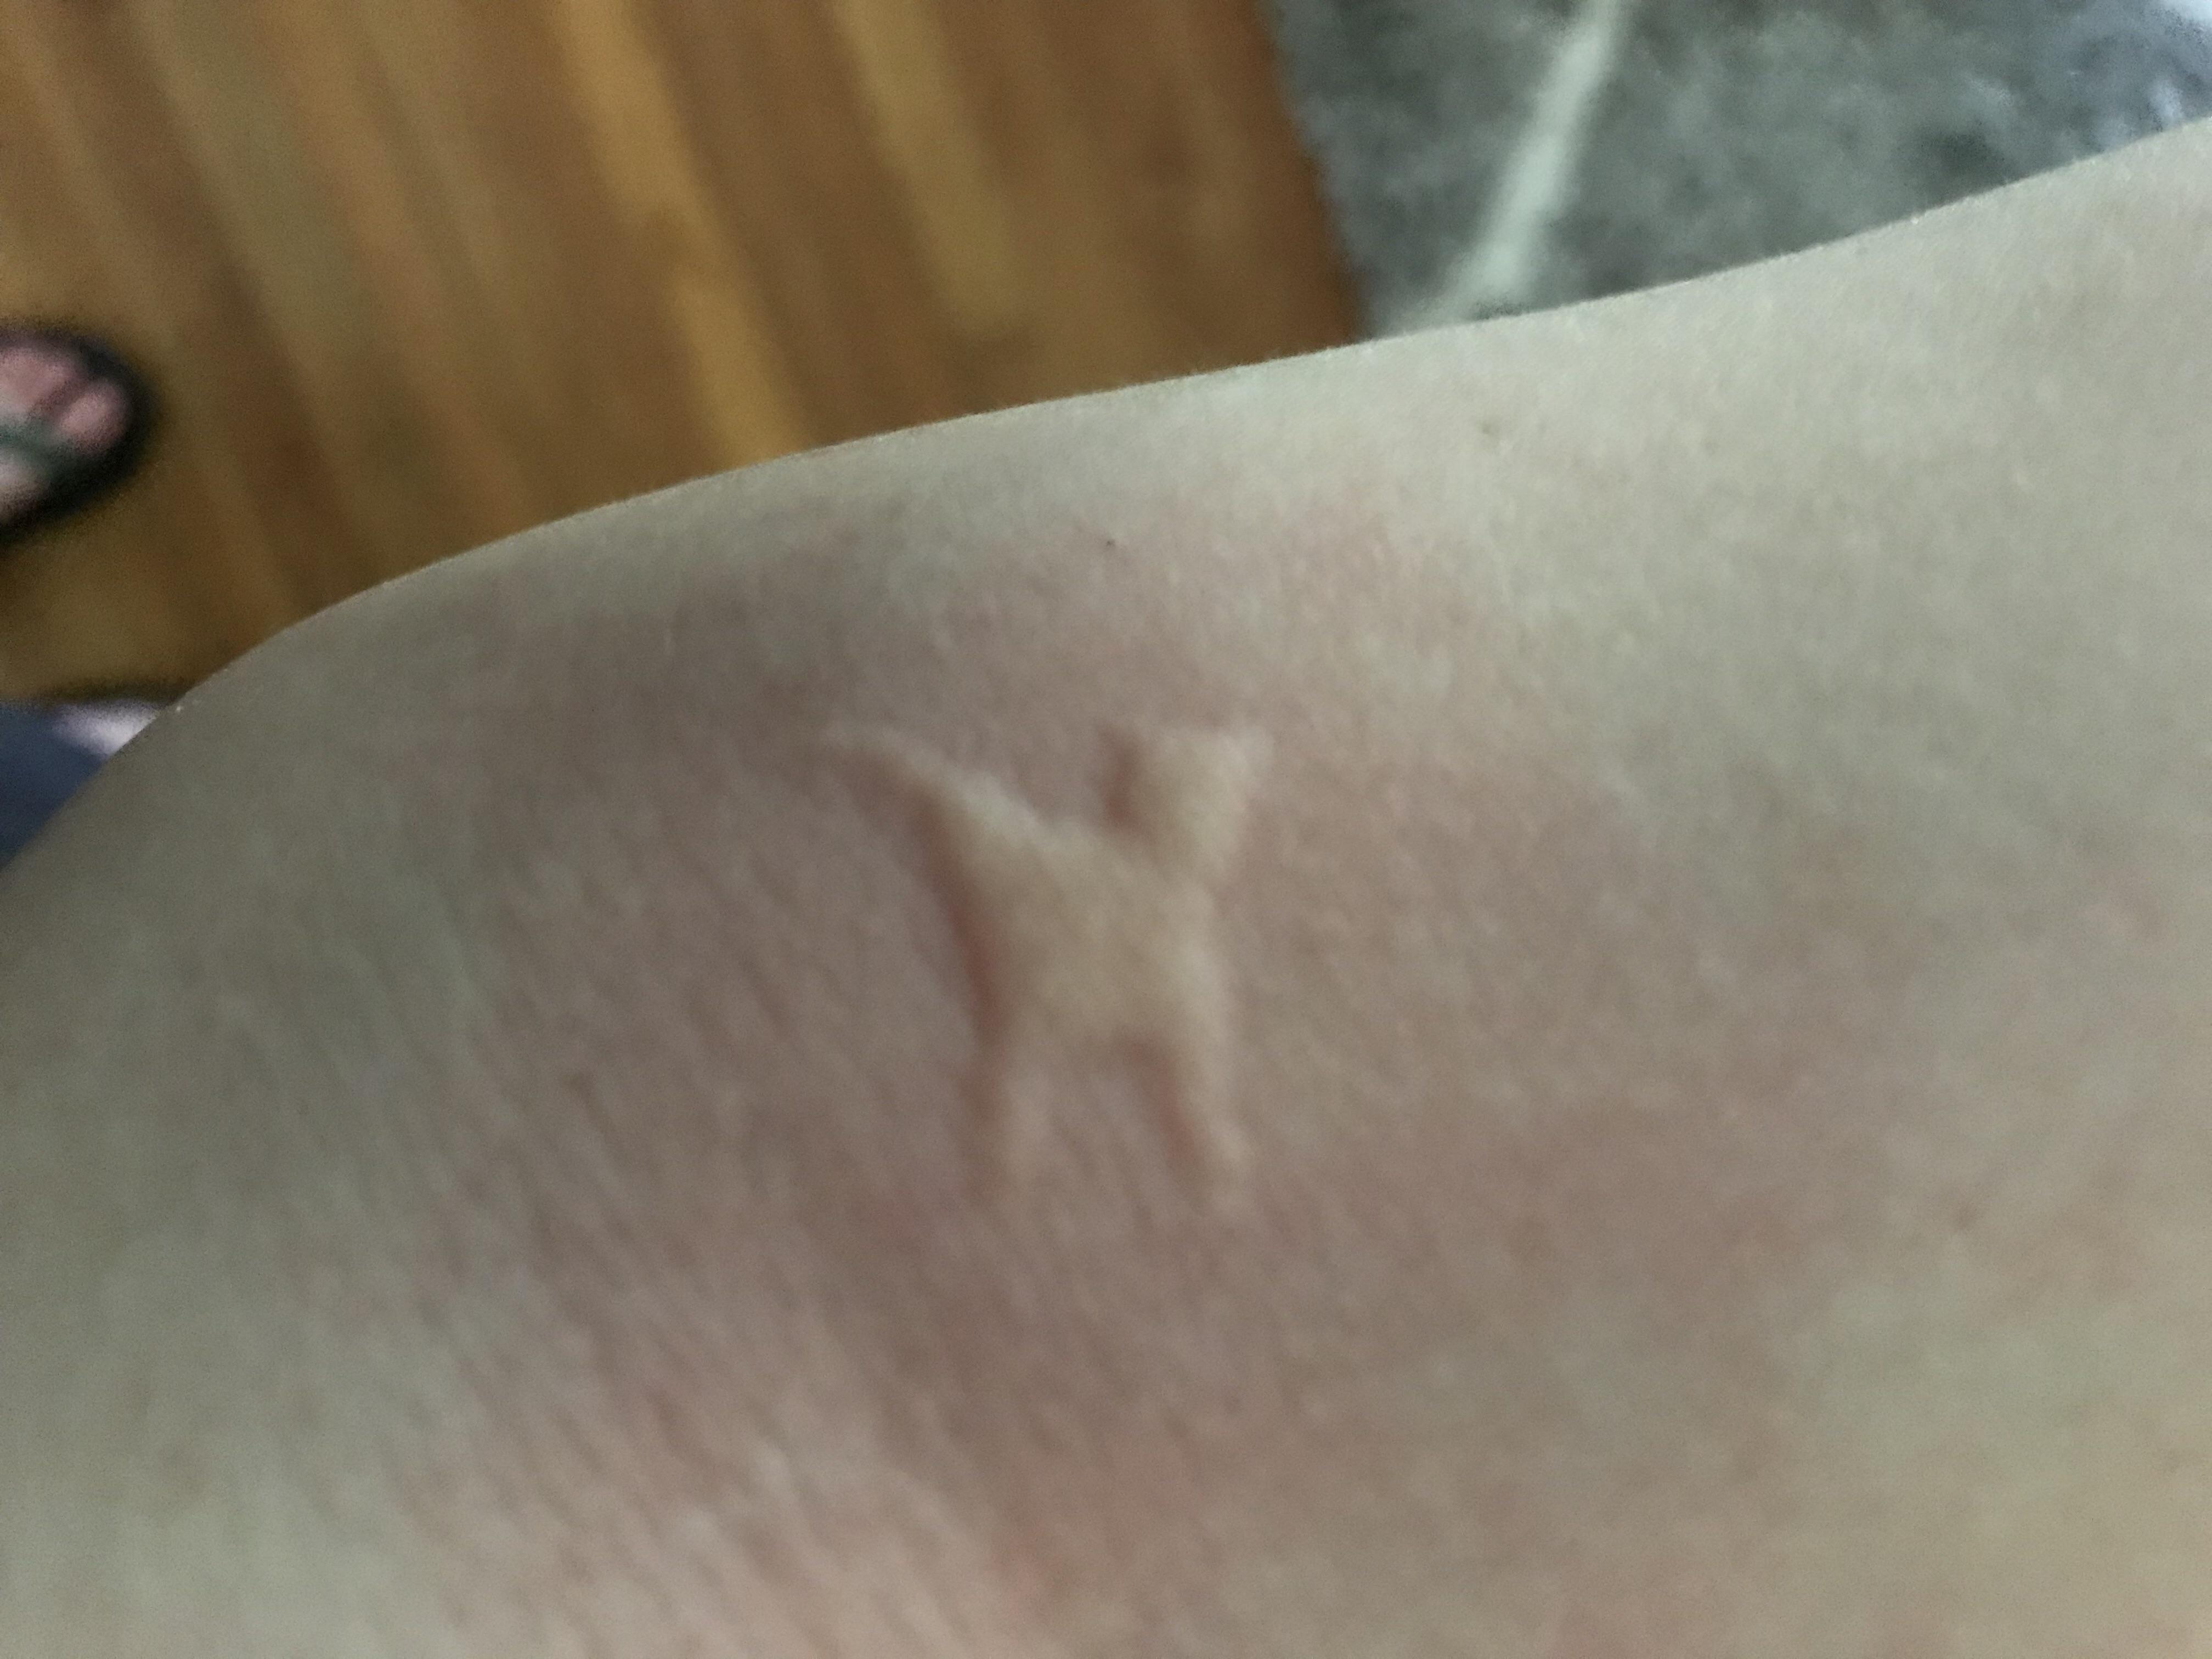Mosquito: (831, 727, 1271, 1208)
